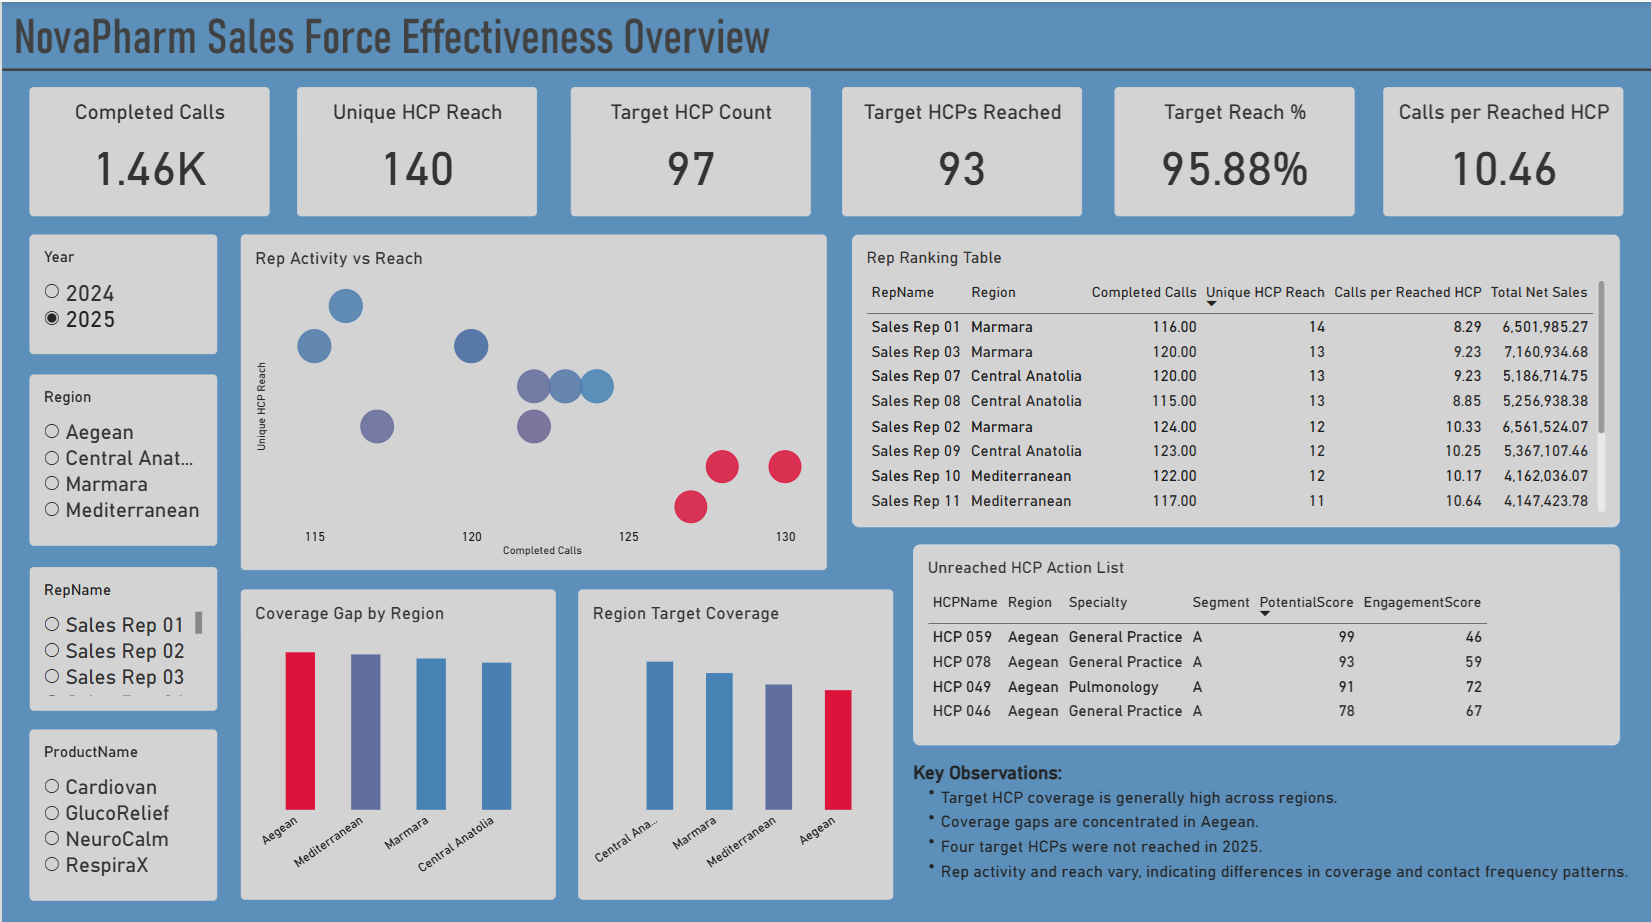

Layout of this report page (visuals, bound fields, positions):
{"tool":"powerbi","page":{"name":"Sales Force Effectiveness","canvas":[1920,1080],"ordinal":1},"visuals":[{"type":"listSlicer","fields":{"Values":["Date.Year"]},"box":[31.4,270.3,218,139.5],"z":0},{"type":"listSlicer","fields":{"Values":["Regions.Region"]},"box":[31.4,432.6,218,198.8],"z":1000},{"type":"listSlicer","fields":{"Values":["Sales_Reps.RepName"]},"box":[31.4,657.6,218,167.4],"z":2000},{"type":"listSlicer","fields":{"Values":["Products.ProductName"]},"box":[31.4,845.9,218,198.8],"z":3000},{"type":"cardVisual","title":"Unique HCP Reach","fields":{"Data":["Measures_table.Unique HCP Reach"]},"box":[343.6,99.4,279.1,150],"z":4000},{"type":"cardVisual","title":"Completed Calls","fields":{"Data":["Measures_table.Completed Calls"]},"box":[31.4,99.4,279.1,150],"z":5000},{"type":"cardVisual","title":"Target HCP Count","fields":{"Data":["Measures_table.Target HCP Count"]},"box":[661,99.4,279.1,150],"z":6000},{"type":"cardVisual","title":"Target HCPs Reached","fields":{"Data":["Measures_table.Target HCPs Reached"]},"box":[976.7,99.4,279.1,150],"z":7000},{"type":"cardVisual","title":"Target Reach %","fields":{"Data":["Measures_table.Target Reach %"]},"box":[1294.2,99.4,279.1,150],"z":8000},{"type":"cardVisual","title":"Calls per Reached HCP","fields":{"Data":["Measures_table.Calls per Reached HCP"]},"box":[1606.4,99.4,279.1,150],"z":9000},{"type":"columnChart","title":"Region Target Coverage","fields":{"Category":["Regions.Region"],"Y":["Measures_table.Target Reach %"]},"box":[669.8,683.7,366.3,361],"z":10000},{"type":"scatterChart","title":"Rep Activity vs Reach","fields":{"Category":["Sales_Reps.RepName"],"Size":["Measures_table.Achievement %"],"X":["Measures_table.Completed Calls"],"Y":["Measures_table.Unique HCP Reach"]},"box":[277.3,270.3,682,390.7],"z":11000},{"type":"tableEx","title":"Rep Ranking Table","fields":{"Values":["Sales_Reps.RepName","Sales_Reps.Region","Measures_table.Completed Calls","Measures_table.Unique HCP Reach","Measures_table.Calls per Reached HCP","Measures_table.Total Net Sales"]},"box":[989,270.3,893,340.1],"z":12000},{"type":"columnChart","title":"Coverage Gap by Region","fields":{"Category":["Regions.Region"],"Y":["Measures_table.Unreached Target HCPs"]},"box":[277.3,683.7,366.3,361],"z":13000},{"type":"tableEx","title":"Unreached HCP Action List","fields":{"Values":["HCP_Master.HCPName","HCP_Master.Region","HCP_Master.Specialty","HCP_Master.Segment","HCP_Master.PotentialScore","HCP_Master.EngagementScore"]},"box":[1060.5,631.4,821.5,233.7],"z":14000},{"type":"textbox","box":[1060.5,884.3,859.9,160.5],"z":15000}]}

Visuals, with their boxes in screenshot pixels (x1, y1, x2, y2), scaled from the page's 1920x1080 canvas onto the 1651x922 screenshot:
listSlicer - Date.Year: 27, 231, 214, 350
listSlicer - Regions.Region: 27, 369, 214, 539
listSlicer - Sales_Reps.RepName: 27, 561, 214, 704
listSlicer - Products.ProductName: 27, 722, 214, 892
"Unique HCP Reach" cardVisual: 295, 85, 535, 213
"Completed Calls" cardVisual: 27, 85, 267, 213
"Target HCP Count" cardVisual: 568, 85, 808, 213
"Target HCPs Reached" cardVisual: 840, 85, 1080, 213
"Target Reach %" cardVisual: 1113, 85, 1353, 213
"Calls per Reached HCP" cardVisual: 1381, 85, 1621, 213
"Region Target Coverage" columnChart: 576, 584, 891, 892
"Rep Activity vs Reach" scatterChart: 238, 231, 825, 564
"Rep Ranking Table" tableEx: 850, 231, 1618, 521
"Coverage Gap by Region" columnChart: 238, 584, 553, 892
"Unreached HCP Action List" tableEx: 912, 539, 1618, 739
textbox: 912, 755, 1650, 892
